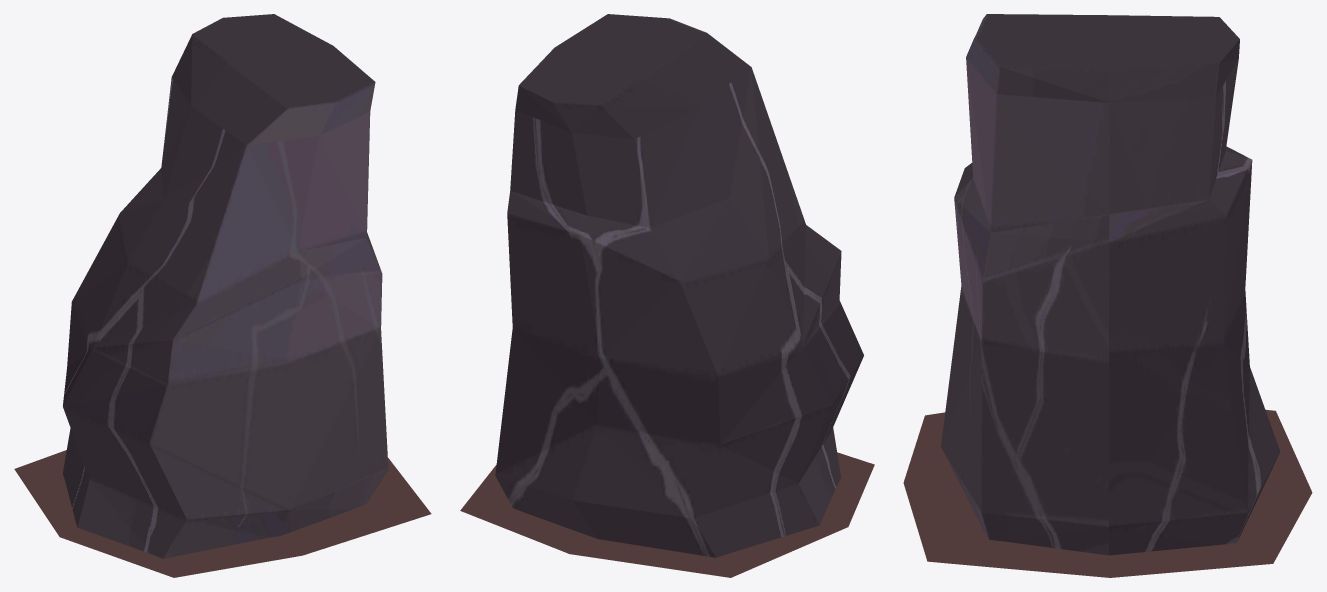
File: Coliseum_Chair.glb
The picture shows the model from 3 angles, left to right: view 1: azimuth 30°, elevation 25°; view 2: azimuth 150°, elevation 25°; view 3: azimuth 270°, elevation 25°; orthographic projection. The views are drawn at different scales.
Parts seen in each view (by area): view 1: Coliseum_Chair, Chair_Shadow; view 2: Coliseum_Chair, Chair_Shadow; view 3: Coliseum_Chair, Chair_Shadow.
Boxes of the visible parts, x1,y1,x2,y2 form: Coliseum_Chair: (62, 14, 388, 558); Chair_Shadow: (14, 450, 431, 577); Coliseum_Chair: (495, 14, 863, 557); Chair_Shadow: (460, 452, 874, 577); Coliseum_Chair: (941, 14, 1280, 555); Chair_Shadow: (903, 409, 1312, 577).
Size of the model in its own units: 1.59 by 1.93 by 1.47.
2 materials, 2 textured.
